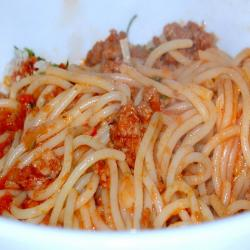bolonese_pasta: (12, 54, 241, 218)
